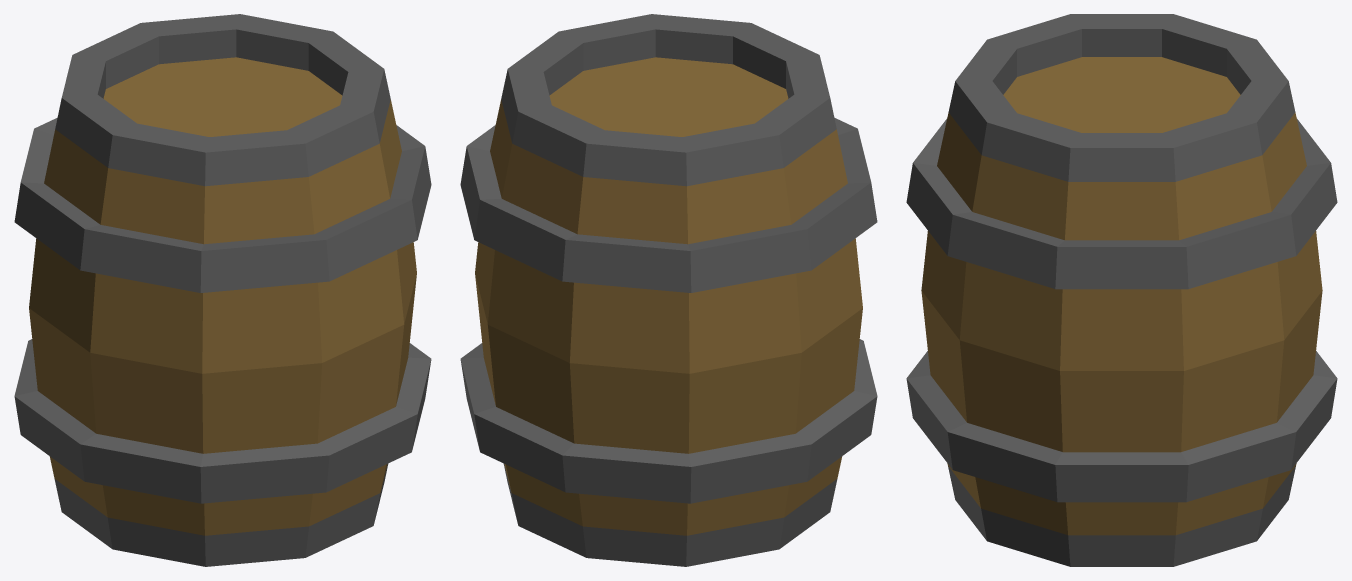
Rendered from wooden barrel.fbx.
3 views of the same model, side by side, from view 1: azimuth 30°, elevation 25°; view 2: azimuth 150°, elevation 25°; view 3: azimuth 270°, elevation 25° (orthographic).
Visible parts, largest first — view 1: wooden-barrel_LOD0; view 2: wooden-barrel_LOD0; view 3: wooden-barrel_LOD0.
Boxes of the visible parts, x1=… form: wooden-barrel_LOD0: x1=14, y1=14, x2=431, y2=566; wooden-barrel_LOD0: x1=460, y1=14, x2=877, y2=566; wooden-barrel_LOD0: x1=906, y1=14, x2=1337, y2=566.
Size of what is drawn, in the model's own units: 1.56 by 1.76 by 1.64.
